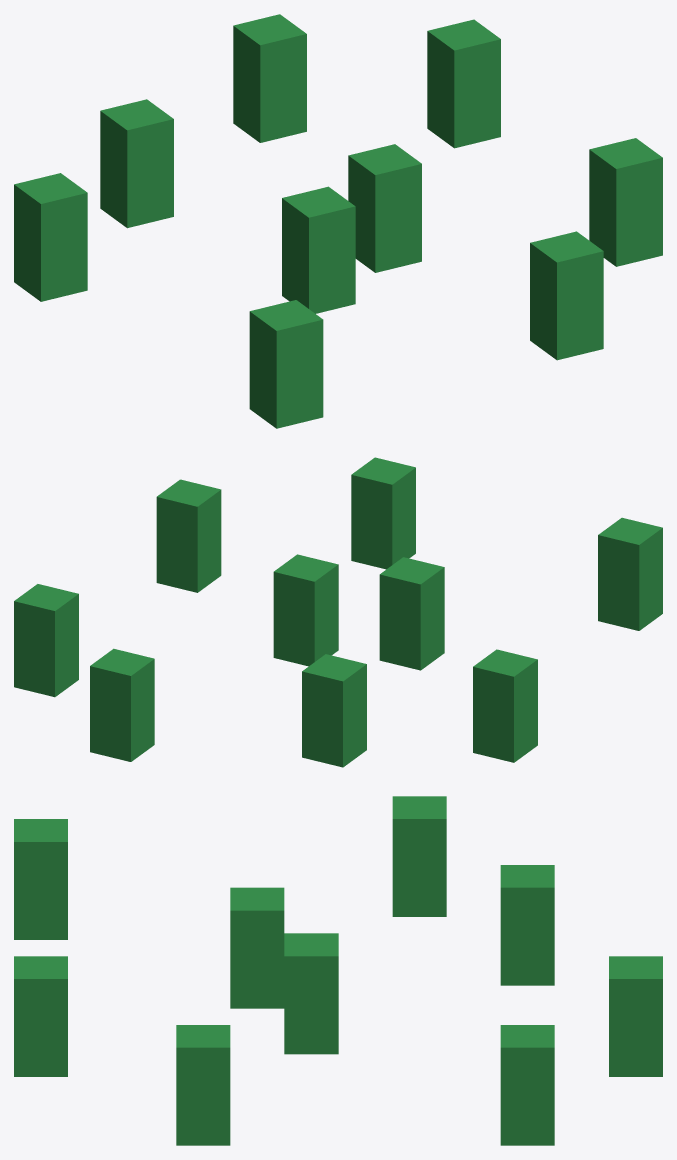
The model's file is GrassInstance.obj.
3 renders of one model, top to bottom at view 1: azimuth 30°, elevation 25°; view 2: azimuth 150°, elevation 25°; view 3: azimuth 270°, elevation 25°, orthographic. The views are drawn at different scales.
Parts seen in each view (by area): view 1: cube; view 2: cube; view 3: cube.
Boxes of the visible parts, x1=… form: cube: x1=14, y1=14, x2=662, y2=428; cube: x1=14, y1=457, x2=662, y2=767; cube: x1=14, y1=796, x2=662, y2=1145.
Bounding box in the file's own units: 0.6875 × 0.125 × 0.75.
Materials: 1 (1 with a texture image).
